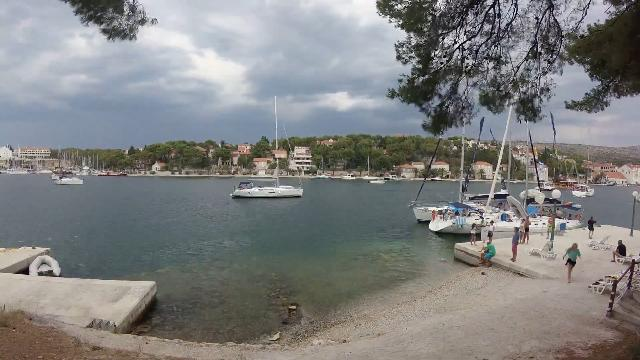Sailboat: (224, 172, 306, 202), (52, 171, 86, 189)
speedboat: (367, 176, 391, 186)
